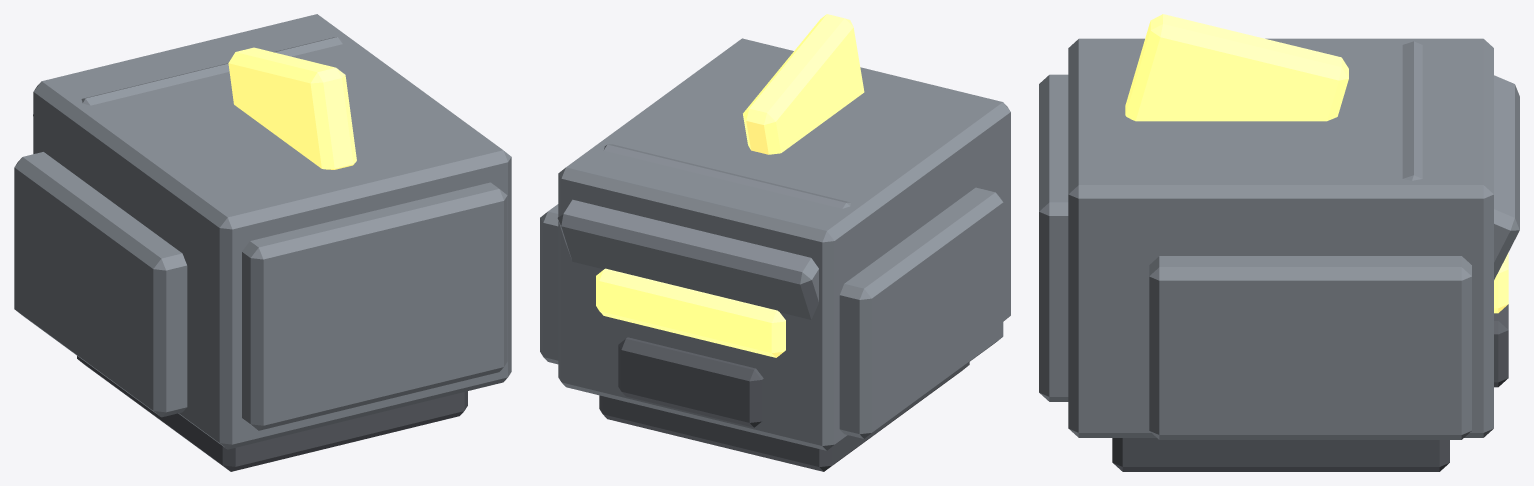
Rendered from tankhead_head.glb.
3 views of the same model, side by side, from view 1: azimuth 30°, elevation 25°; view 2: azimuth 150°, elevation 25°; view 3: azimuth 270°, elevation 25° (orthographic). The views are drawn at different scales.
Parts seen in each view (by area): view 1: tankhead_head; view 2: tankhead_head; view 3: tankhead_head.
Part boxes in pixels (x1,y1,x2,y2): tankhead_head: (14,14,511,471); tankhead_head: (540,14,1010,471); tankhead_head: (1039,14,1519,471).
Size of the model in its own units: 0.6 by 0.5899 by 0.6552.
